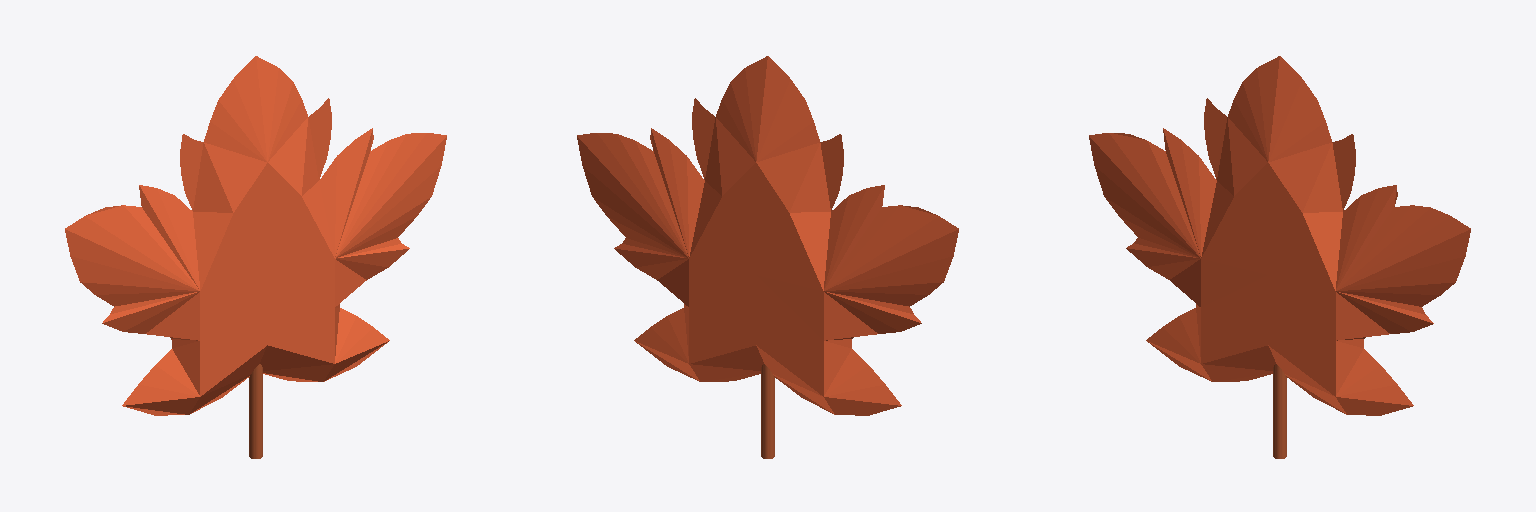
The picture shows the model from 3 angles: view 1: azimuth 30°, elevation 25°; view 2: azimuth 150°, elevation 25°; view 3: azimuth 330°, elevation 25°; orthographic projection.
Visible parts, largest first — view 1: はっぱ, くき; view 2: はっぱ, くき; view 3: はっぱ, くき.
Part boxes in pixels (bbox=[...]): はっぱ: bbox=[65, 56, 446, 415]; くき: bbox=[249, 364, 262, 458]; はっぱ: bbox=[577, 56, 958, 415]; くき: bbox=[761, 364, 774, 458]; はっぱ: bbox=[1089, 56, 1470, 415]; くき: bbox=[1273, 364, 1286, 458].
Size of the model in its own units: 1.9 by 1.9 by 0.2.
Materials: 2 (1 with a texture image).